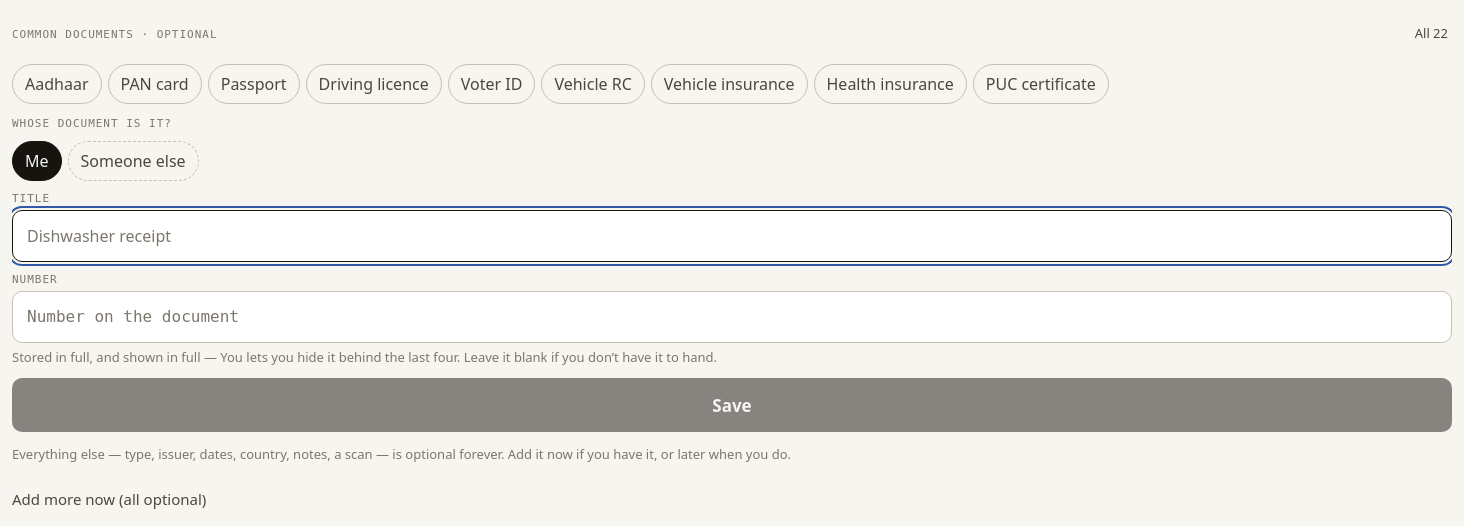
Test: DocumentForm › keeps Save disabled at zero characters and enables it from the first
Check: the button "Save" is disabled, box [12,378,1452,432]
Type "P" into the field labelled "Title" at (732, 236), box [12,210,1452,262]
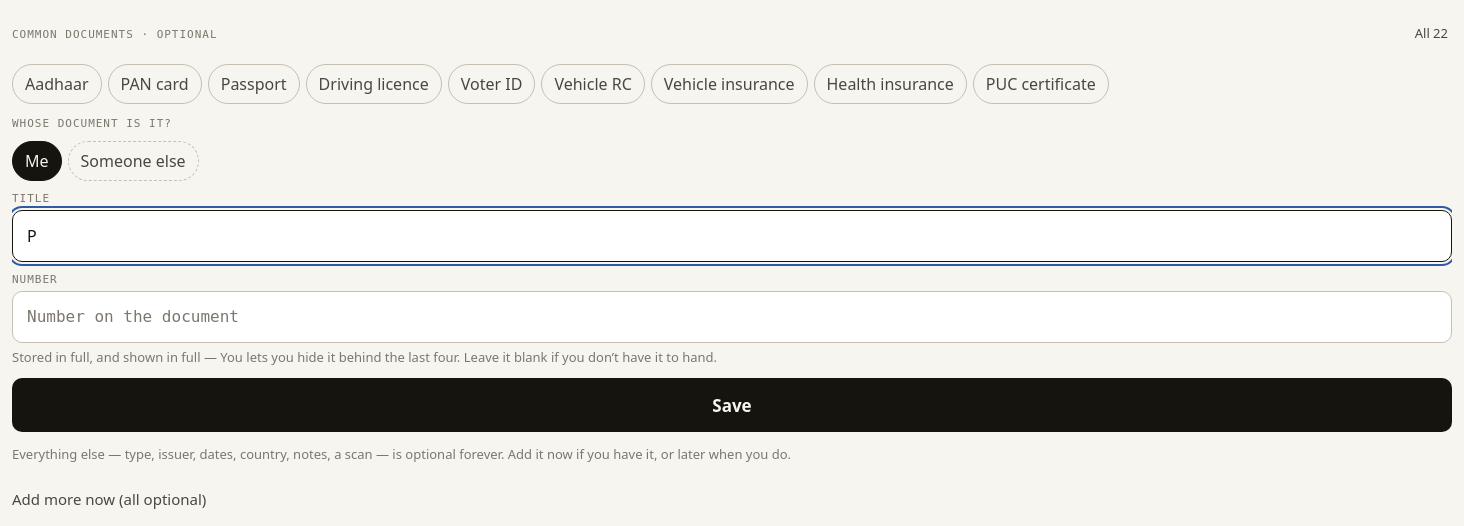
Check: the button "Save" is enabled, box [12,378,1452,432]
